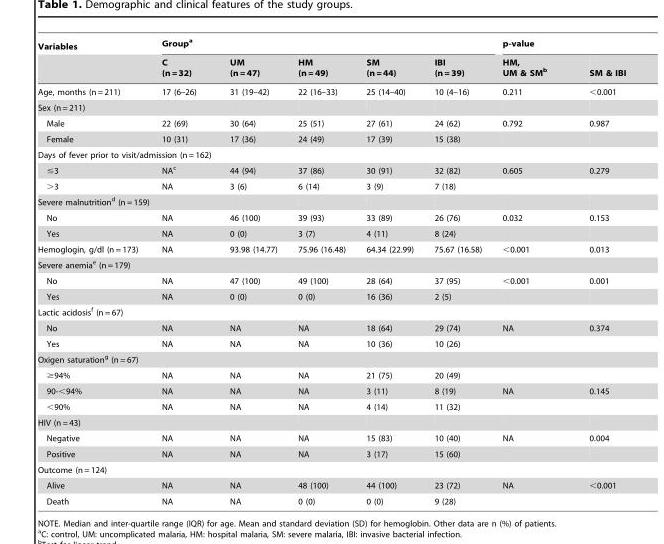table: (37, 37, 625, 505)
table column: (37, 37, 149, 505), (491, 37, 567, 505), (212, 37, 286, 505), (286, 37, 355, 505), (355, 37, 423, 505), (423, 37, 491, 505), (149, 37, 212, 505), (567, 37, 625, 505)
table column header: (37, 37, 625, 82)
table projected row header: (37, 303, 625, 320), (37, 350, 625, 367), (37, 99, 625, 115), (37, 193, 625, 209), (37, 256, 625, 272), (37, 414, 625, 430), (37, 461, 625, 477), (37, 146, 625, 161)
table row: (37, 54, 625, 82), (37, 37, 625, 54), (37, 82, 625, 99), (37, 161, 625, 178), (37, 303, 625, 320), (37, 350, 625, 367), (37, 99, 625, 115), (37, 115, 625, 131), (37, 193, 625, 209), (37, 209, 625, 225), (37, 225, 625, 241), (37, 256, 625, 272), (37, 272, 625, 288), (37, 382, 625, 398), (37, 398, 625, 414), (37, 414, 625, 430), (37, 430, 625, 446), (37, 461, 625, 477), (37, 477, 625, 493), (37, 131, 625, 146), (37, 146, 625, 161), (37, 178, 625, 193), (37, 241, 625, 256), (37, 288, 625, 303), (37, 320, 625, 335), (37, 335, 625, 350), (37, 367, 625, 382), (37, 446, 625, 461), (37, 493, 625, 505)
table spanning cell: (149, 37, 491, 54), (37, 37, 149, 82), (491, 37, 625, 54)
